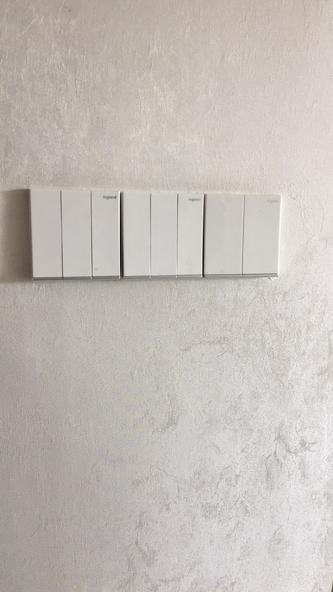switch: (201, 188, 248, 282), (58, 181, 97, 285), (238, 190, 283, 279), (27, 186, 68, 282), (86, 184, 124, 281), (118, 187, 154, 282), (147, 185, 182, 282), (176, 187, 207, 282)
